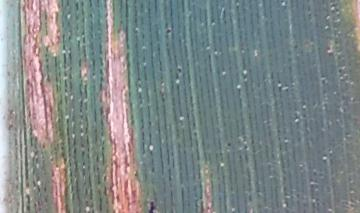tarspot: (145, 198, 158, 213), (164, 26, 176, 38), (173, 65, 186, 76), (223, 140, 234, 151)
